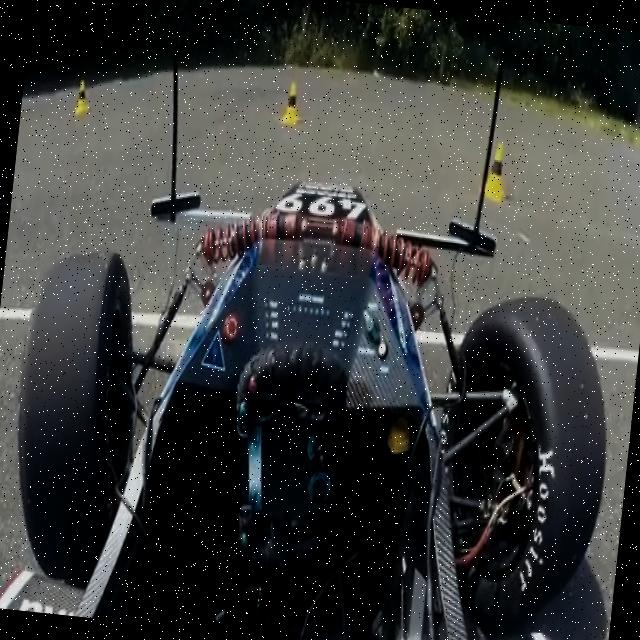yellow_cone: (480, 142, 511, 202), (280, 79, 306, 127), (74, 80, 93, 116)
